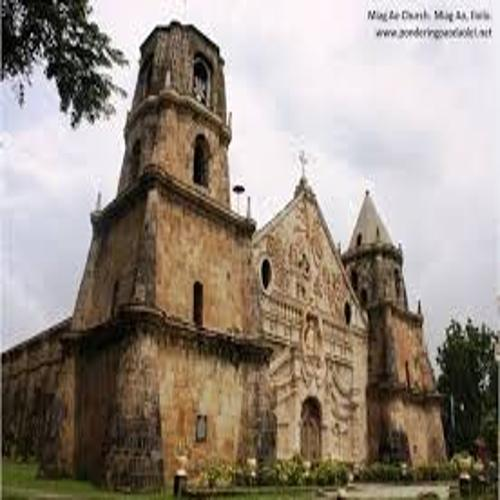Miagao Church: (80, 15, 452, 482)
